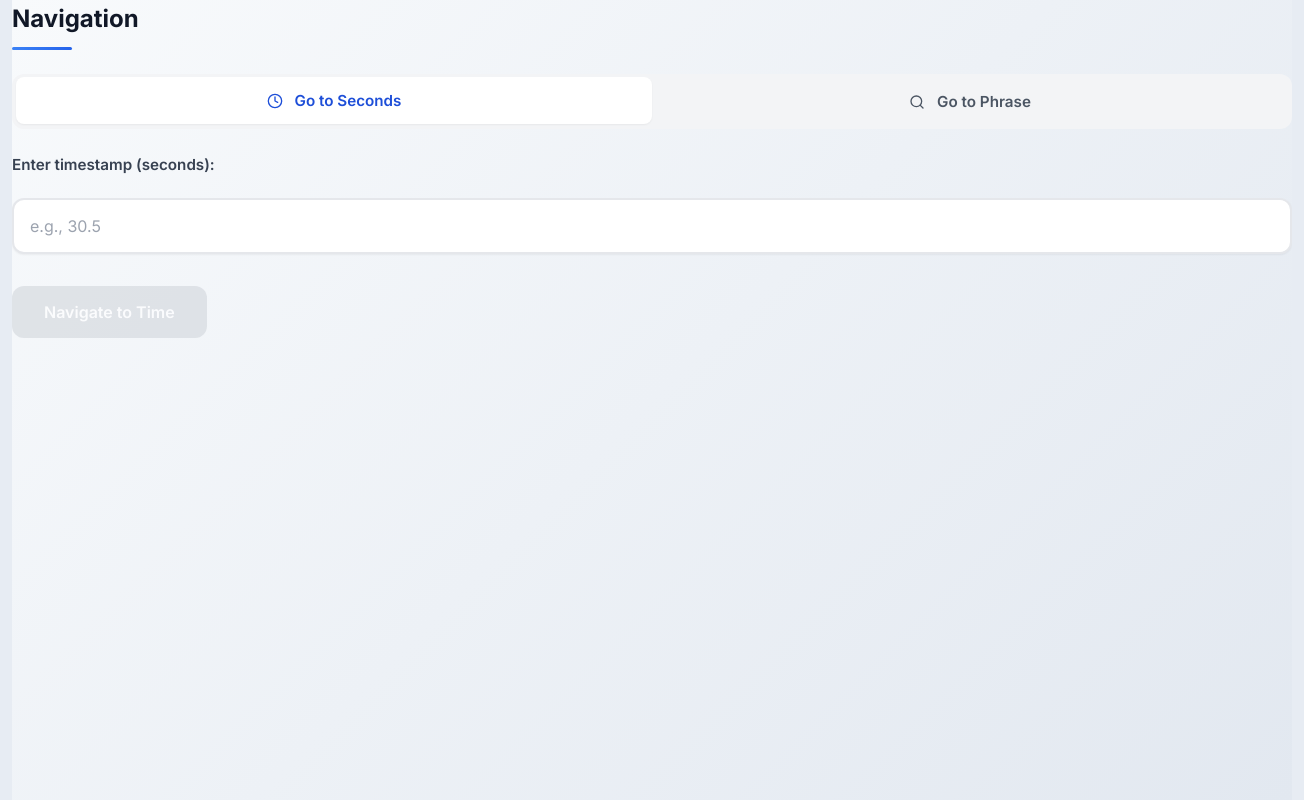
Test: components/NavigationSection › validates phrase search requires transcription and videoId
Click the button "Go to Phrase": x=970, y=102 [652, 78, 1288, 125]
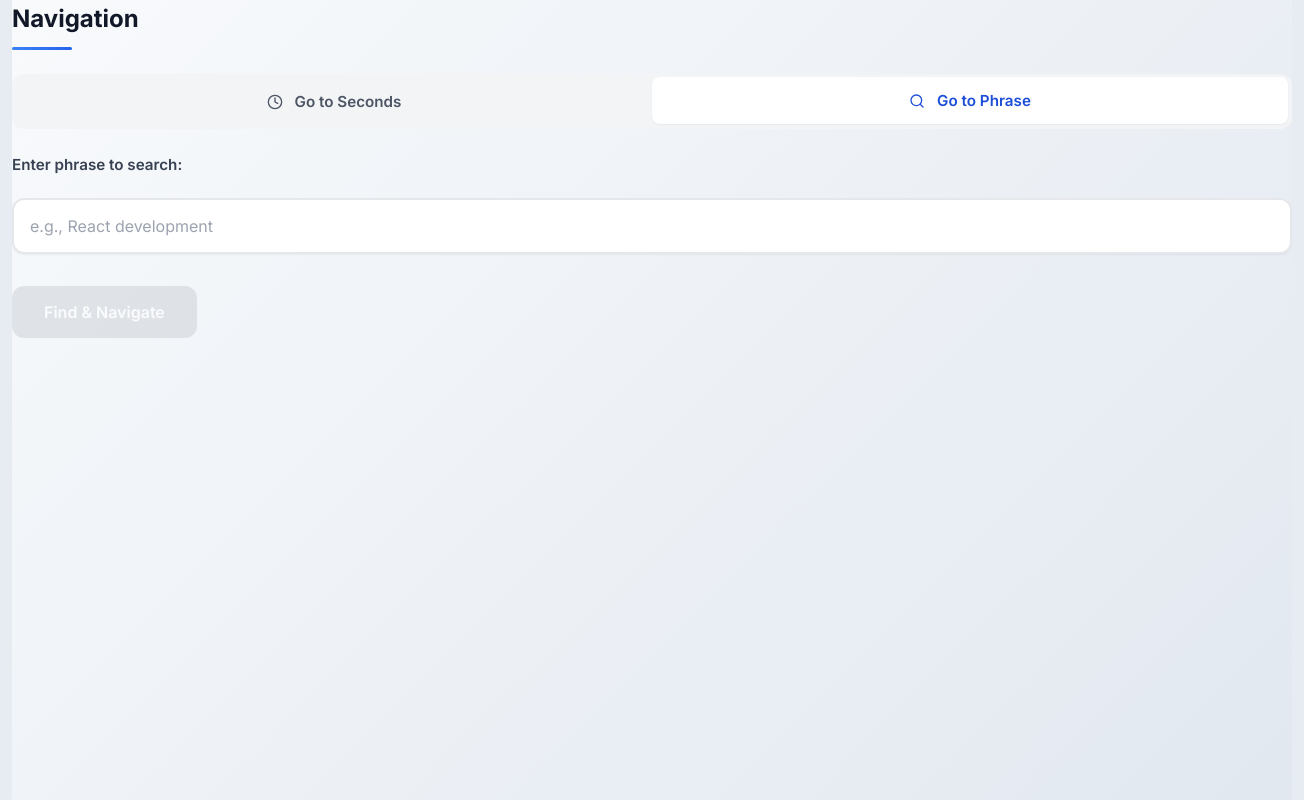
In the field with placeholder "e.g., React development": x=652, y=226 [12, 198, 1292, 254], type "hello"
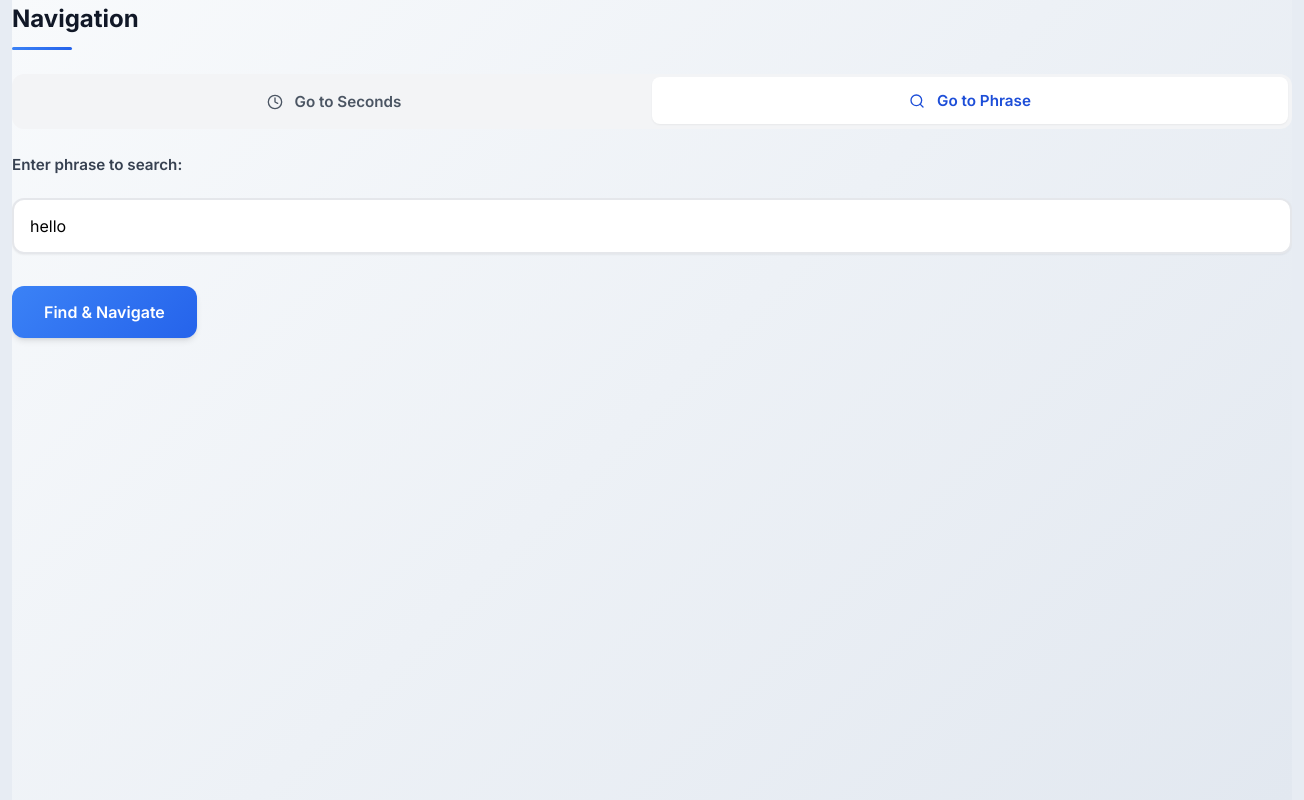
Click the button "Find & Navigate": x=104, y=312 [12, 286, 197, 338]
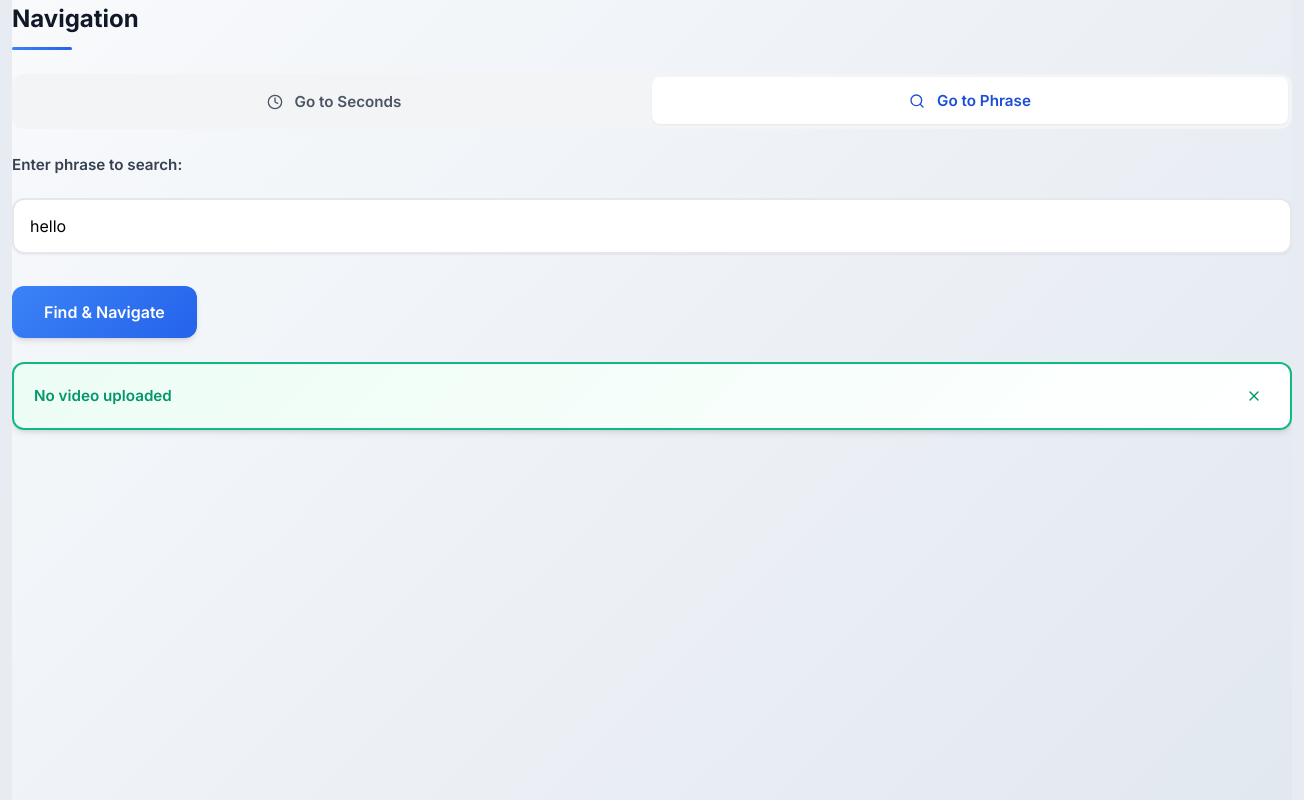
Expected: the text "No video uploaded" is shown, [34, 386, 172, 404]
